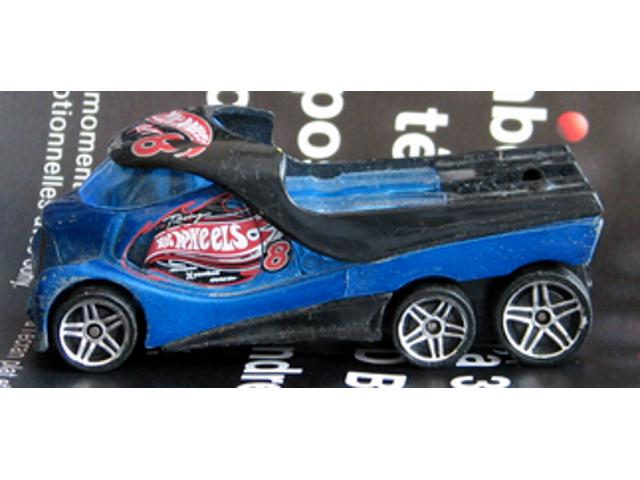toy-car: (25, 102, 607, 375)
